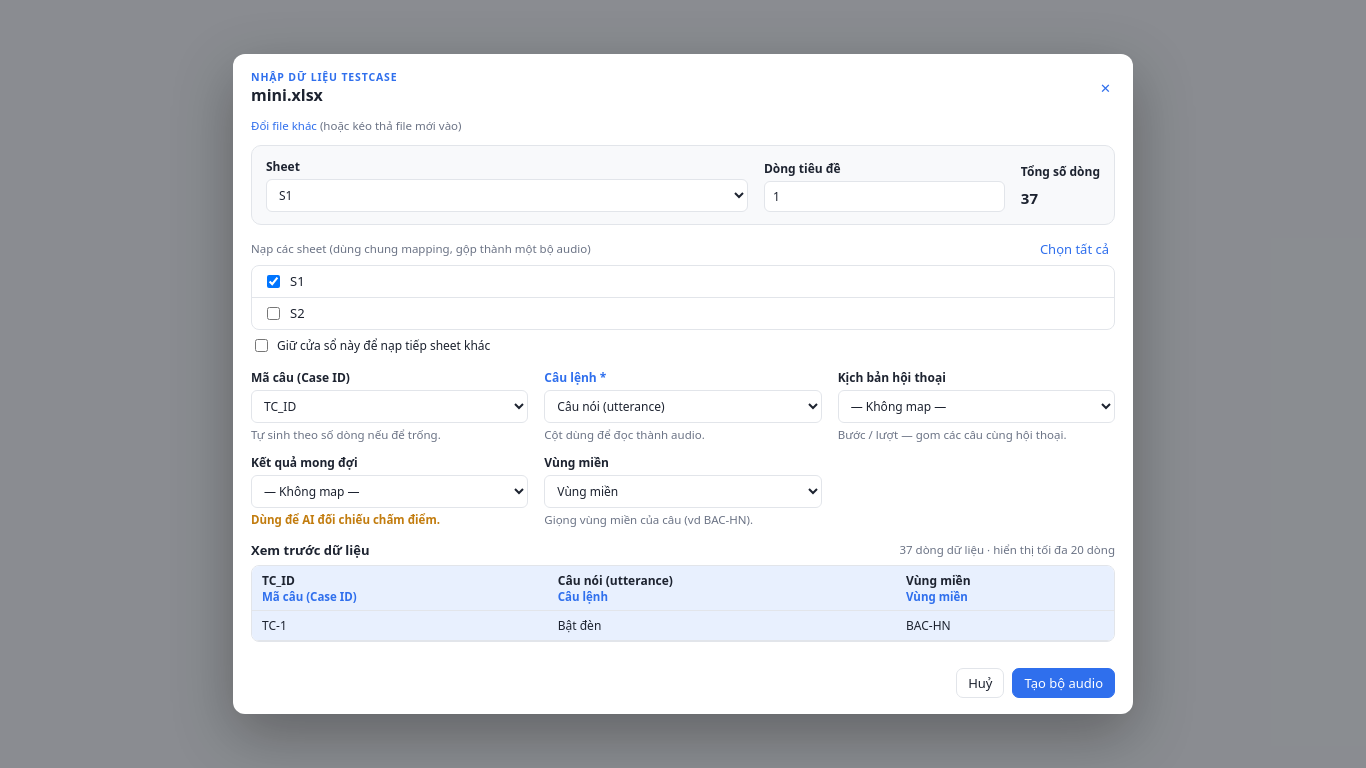
Scenario: ImportDialog › keep-open unticks imported sheets and stays open
The image size is (1366, 768).
Earlier steps of the test are not shown.
Expected: the text "37" is shown, x1=1021 y1=188 x2=1038 y2=208
Click the checkbox labelled "Giữ cửa sổ này để nạp tiếp sheet khác".
click(262, 345)  # box x1=255 y1=339 x2=268 y2=352
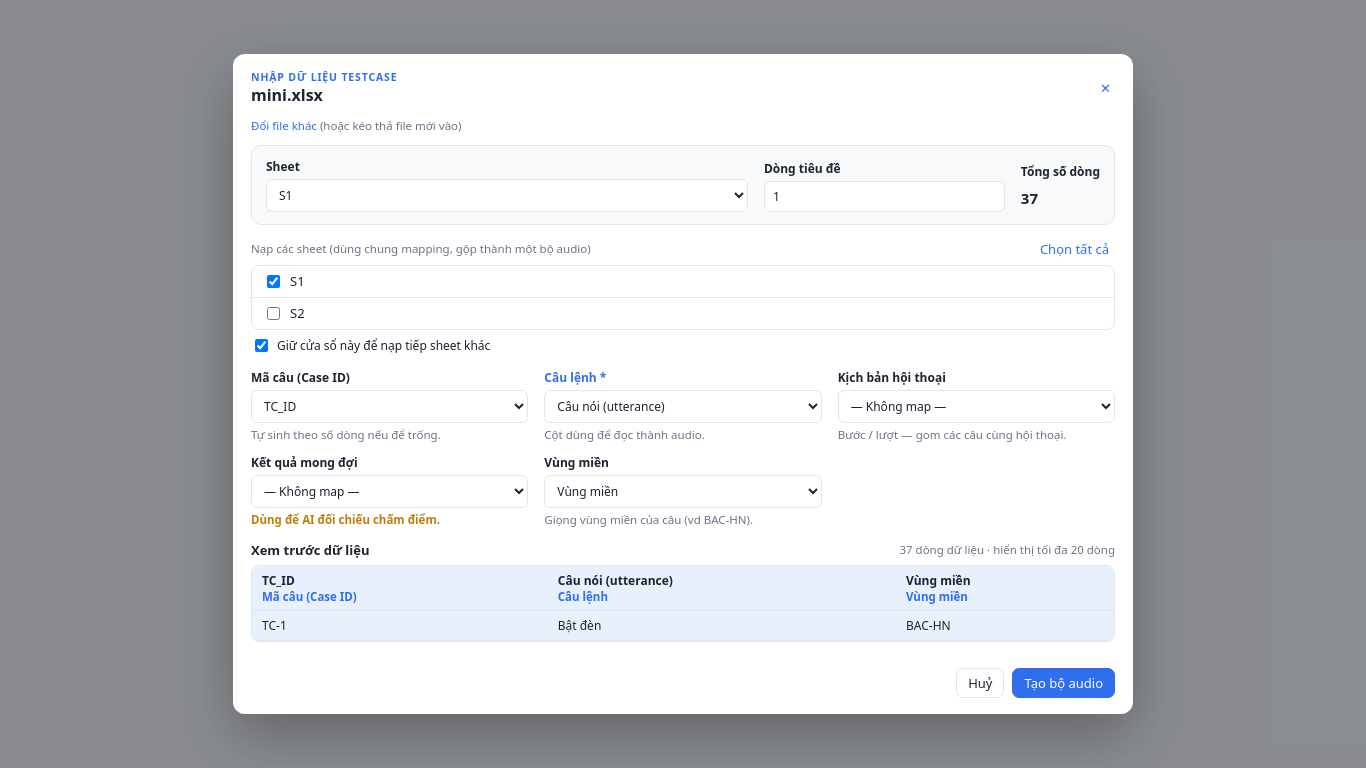
Click the button "Tạo bộ audio".
click(1064, 683)  # box x1=1012 y1=668 x2=1115 y2=698
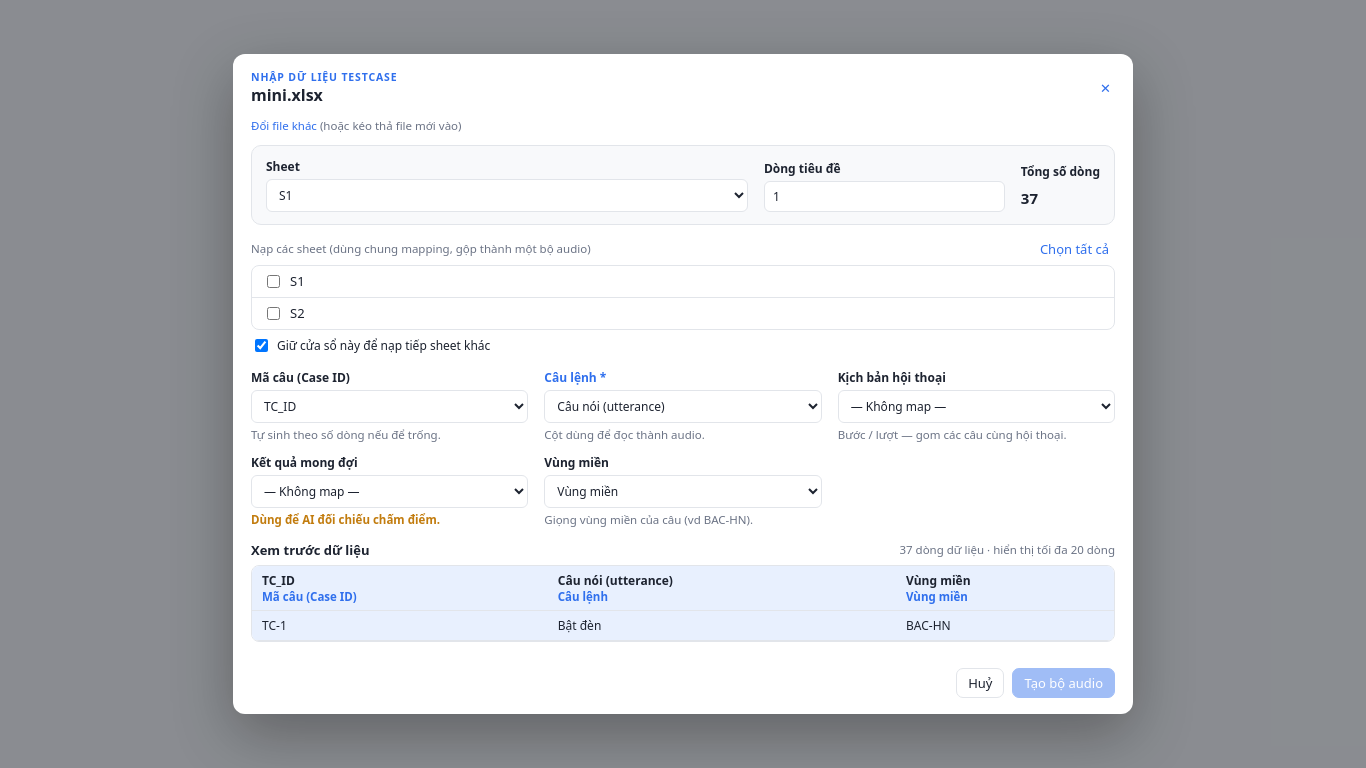
Expected: the checkbox labelled "S1" is not checked, x1=266 y1=275 x2=281 y2=288
Expected: the button "Tạo bộ audio" is disabled, x1=1012 y1=668 x2=1115 y2=698
